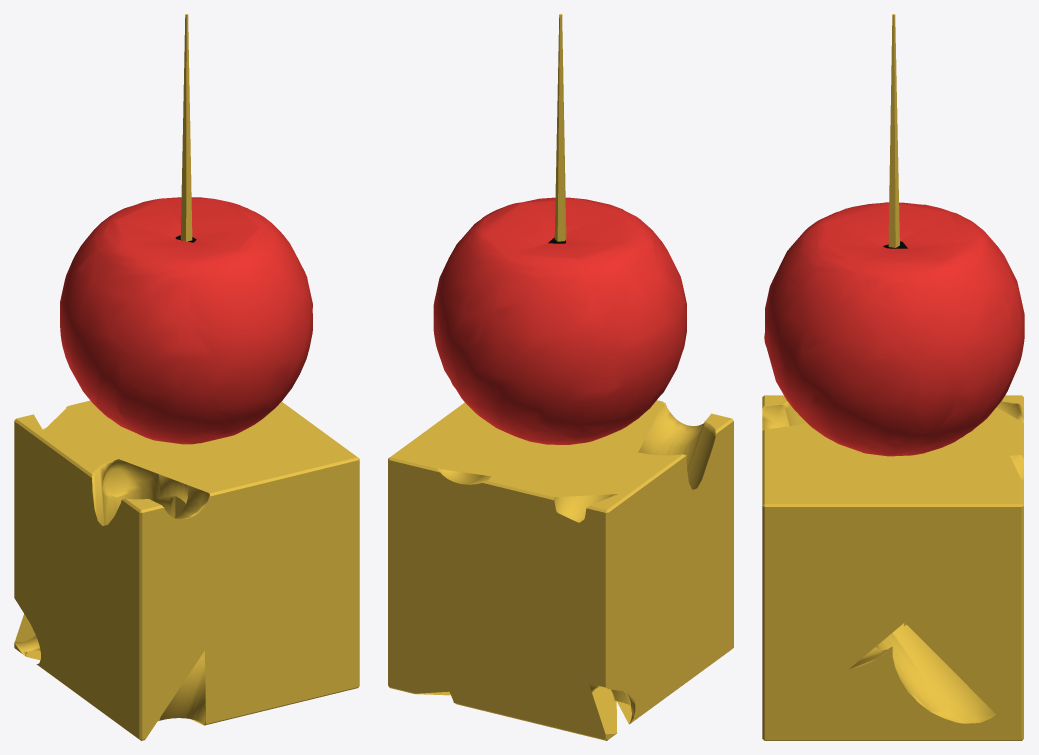
File: Kanape2.fbx
The picture shows the model from 3 angles, left to right: view 1: azimuth 30°, elevation 25°; view 2: azimuth 150°, elevation 25°; view 3: azimuth 270°, elevation 25°; orthographic projection. The views are drawn at different scales.
Visible parts, largest first — view 1: Cube.002; view 2: Cube.002; view 3: Cube.002.
Part boxes in pixels (x1=…): Cube.002: x1=14, y1=14, x2=359, y2=740; Cube.002: x1=388, y1=14, x2=733, y2=740; Cube.002: x1=762, y1=14, x2=1024, y2=740.
Size of the model in its own units: 200 by 567 by 201.
